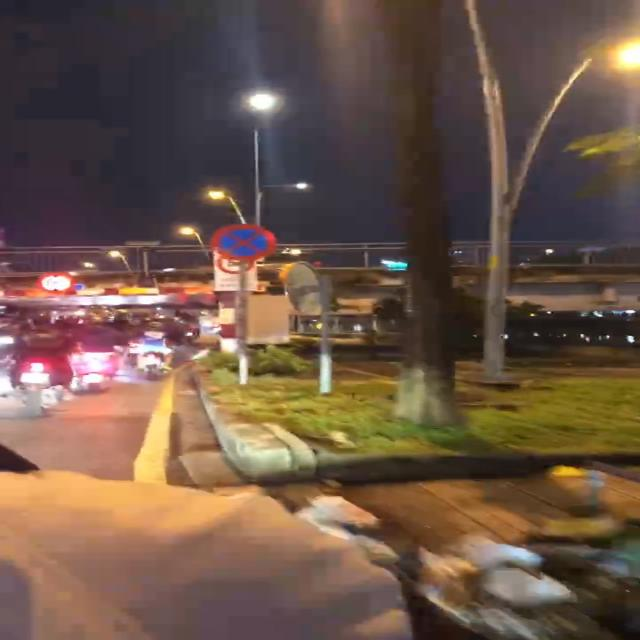Bien bao cam dung xe va do xe: (209, 221, 284, 262)
